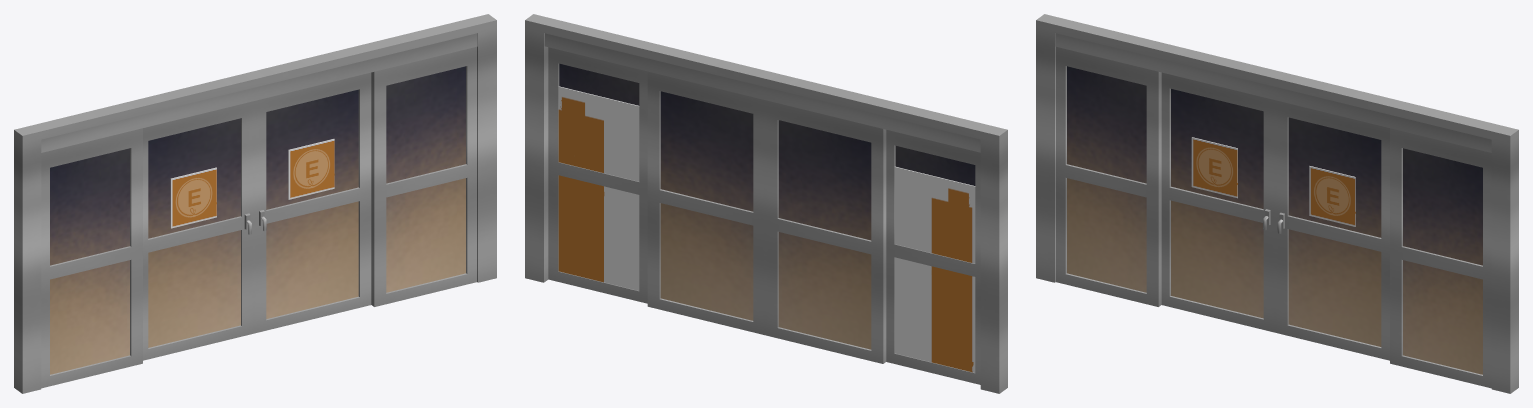
File: pod_doors.fbx
3 renders of one model, left to right at view 1: azimuth 30°, elevation 25°; view 2: azimuth 150°, elevation 25°; view 3: azimuth 330°, elevation 25°, orthographic.
Parts seen in each view (by area): view 1: glass_l, window_l, window_r, glass_r, frame, front_panel, Sticker_R, Sticker_L; view 2: glass_r, glass_l, frame, Big_sticker_r, Big_sticker_L, window_l, window_r, back_panel; view 3: window_r, glass_l, glass_r, window_l, frame, front_panel, Sticker_L, Sticker_R.
Part boxes in pixels (bbox=[...]): glass_l: bbox=[254, 72, 371, 333]; window_l: bbox=[371, 46, 476, 306]; window_r: bbox=[41, 128, 142, 388]; glass_r: bbox=[143, 101, 253, 360]; frame: bbox=[14, 14, 496, 393]; front_panel: bbox=[41, 33, 477, 152]; Sticker_R: bbox=[170, 167, 216, 228]; Sticker_L: bbox=[288, 139, 334, 199]; glass_r: bbox=[765, 100, 886, 363]; glass_l: bbox=[647, 71, 765, 335]; frame: bbox=[525, 14, 1007, 393]; Big_sticker_r: bbox=[894, 166, 975, 372]; Big_sticker_L: bbox=[558, 86, 639, 290]; window_l: bbox=[548, 47, 647, 303]; window_r: bbox=[886, 130, 980, 384]; back_panel: bbox=[544, 33, 980, 152]; window_r: bbox=[1056, 46, 1161, 306]; glass_l: bbox=[1275, 100, 1389, 360]; glass_r: bbox=[1161, 72, 1275, 332]; window_l: bbox=[1390, 128, 1491, 388]; frame: bbox=[1036, 14, 1518, 393]; front_panel: bbox=[1055, 33, 1491, 152]; Sticker_L: bbox=[1309, 166, 1355, 226]; Sticker_R: bbox=[1191, 137, 1237, 198].
Size of the model in its own units: 1.85 by 0.9635 by 0.0578.
Materials: 3 (3 with a texture image).
